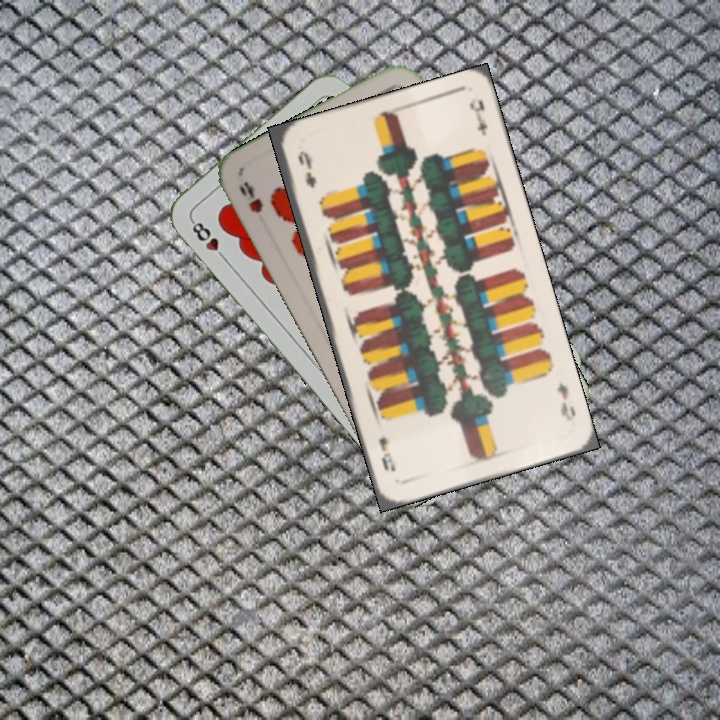E9: (553, 378, 578, 424), (294, 147, 319, 191)
H8: (187, 216, 230, 264)
H9: (235, 177, 265, 216)
